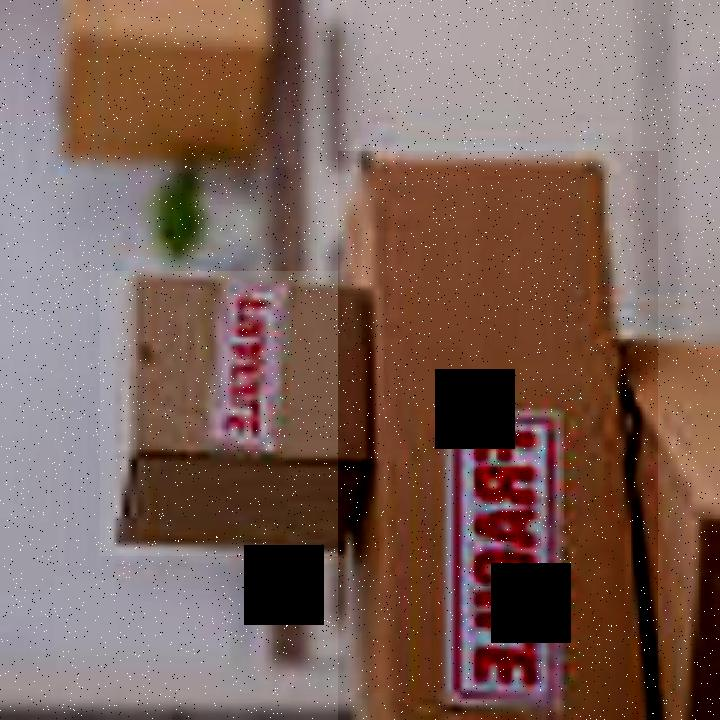box: (338, 151, 658, 720), (100, 272, 378, 557)
